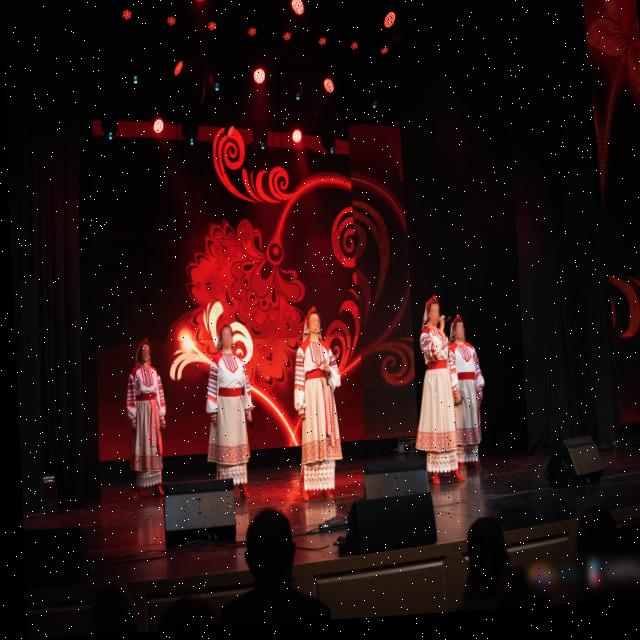Person: (280, 304, 343, 511), (404, 287, 463, 507), (110, 333, 173, 532), (196, 322, 255, 504), (442, 316, 493, 485)
